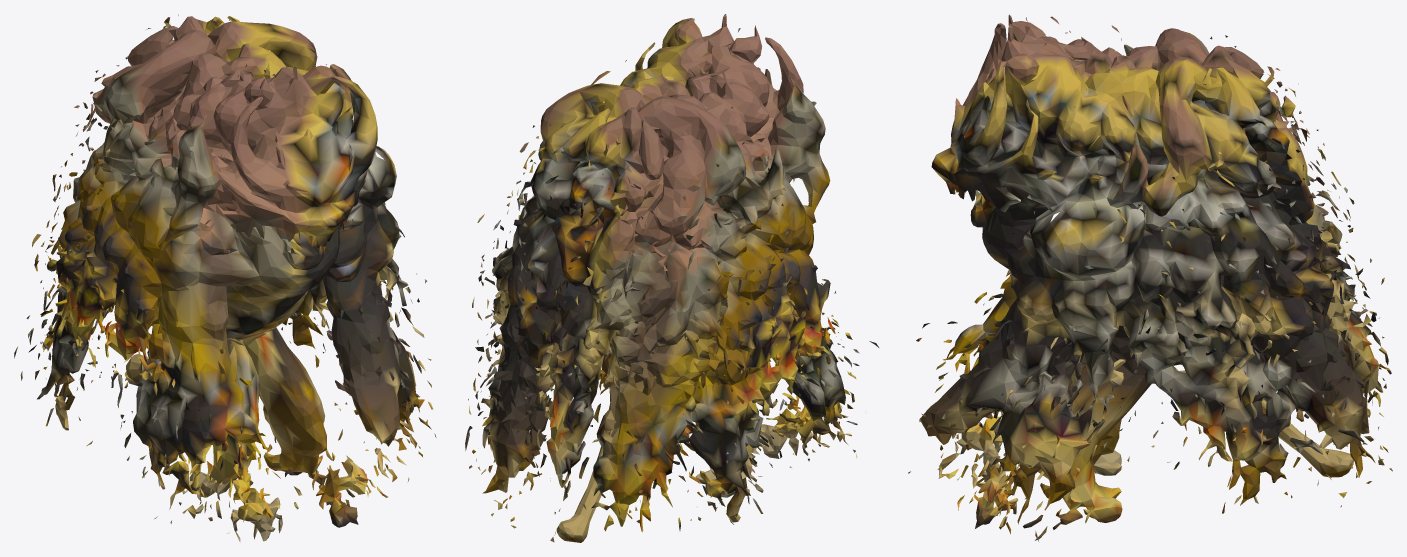
File: mantisWarrior.glb
3 renders of one model, left to right at view 1: azimuth 30°, elevation 25°; view 2: azimuth 150°, elevation 25°; view 3: azimuth 270°, elevation 25°, orthographic. The views are drawn at different scales.
Visible parts, largest first — view 1: world; view 2: world; view 3: world.
Part boxes in pixels (x1=…): world: x1=14, y1=14, x2=436, y2=542; world: x1=465, y1=14, x2=878, y2=542; world: x1=908, y1=14, x2=1392, y2=541.
Bounding box in the file's own units: 0.7141 × 1 × 0.911.
